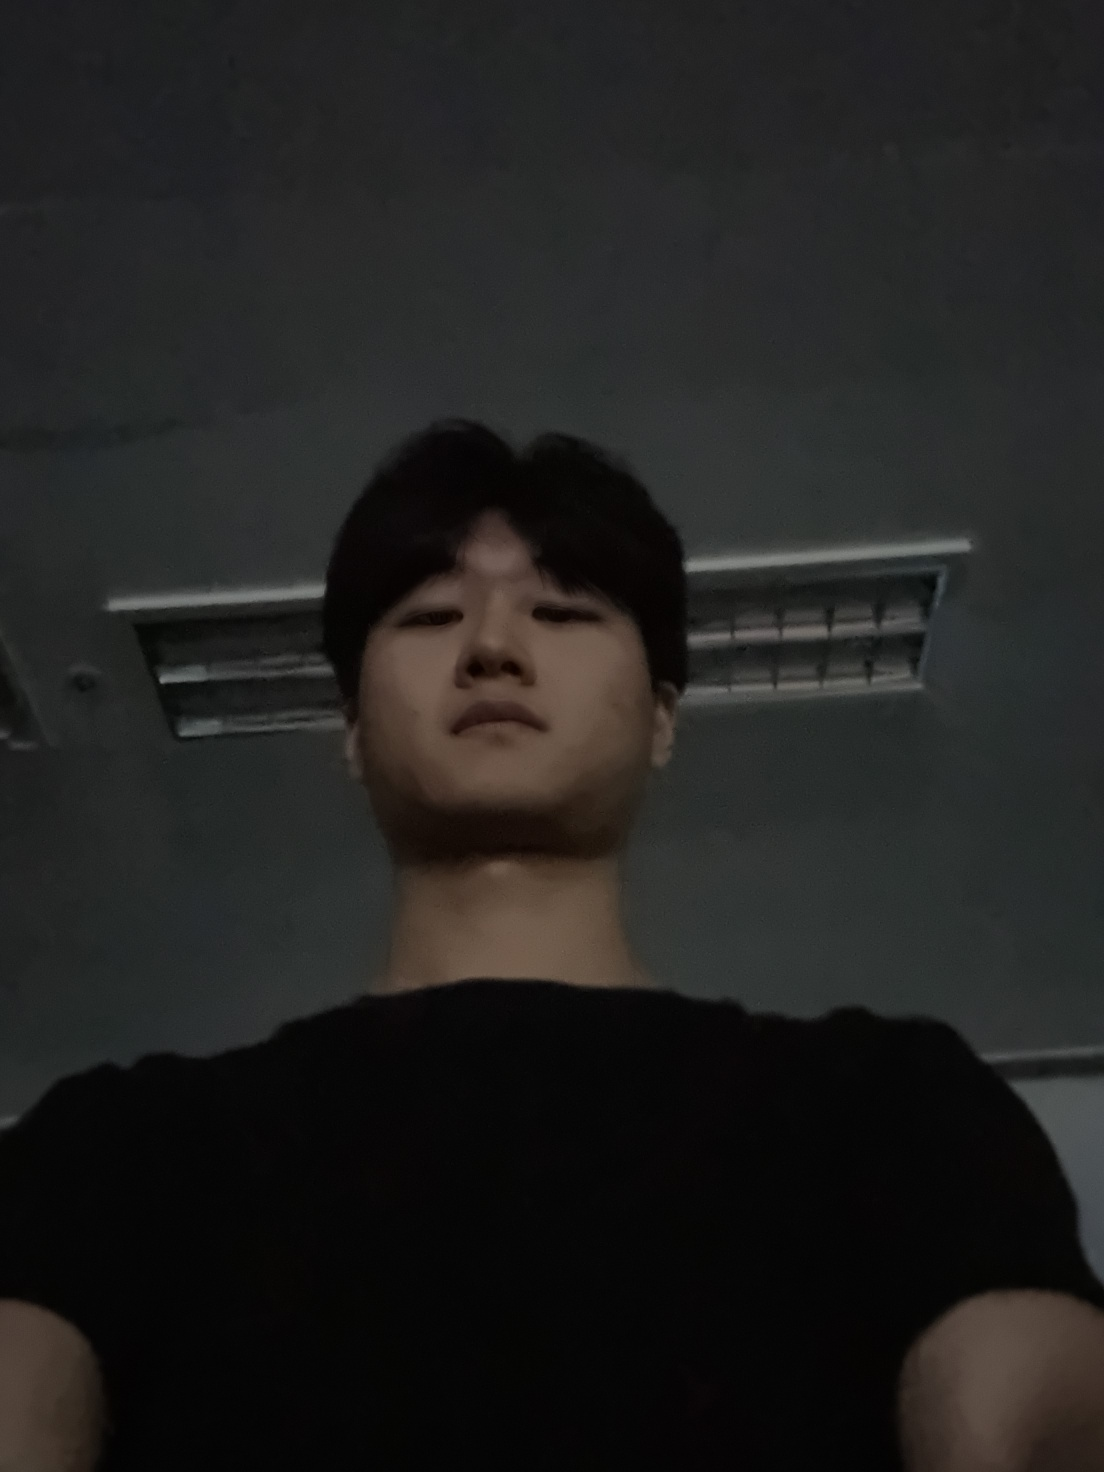Non-Helmet: (275, 365, 751, 870)
